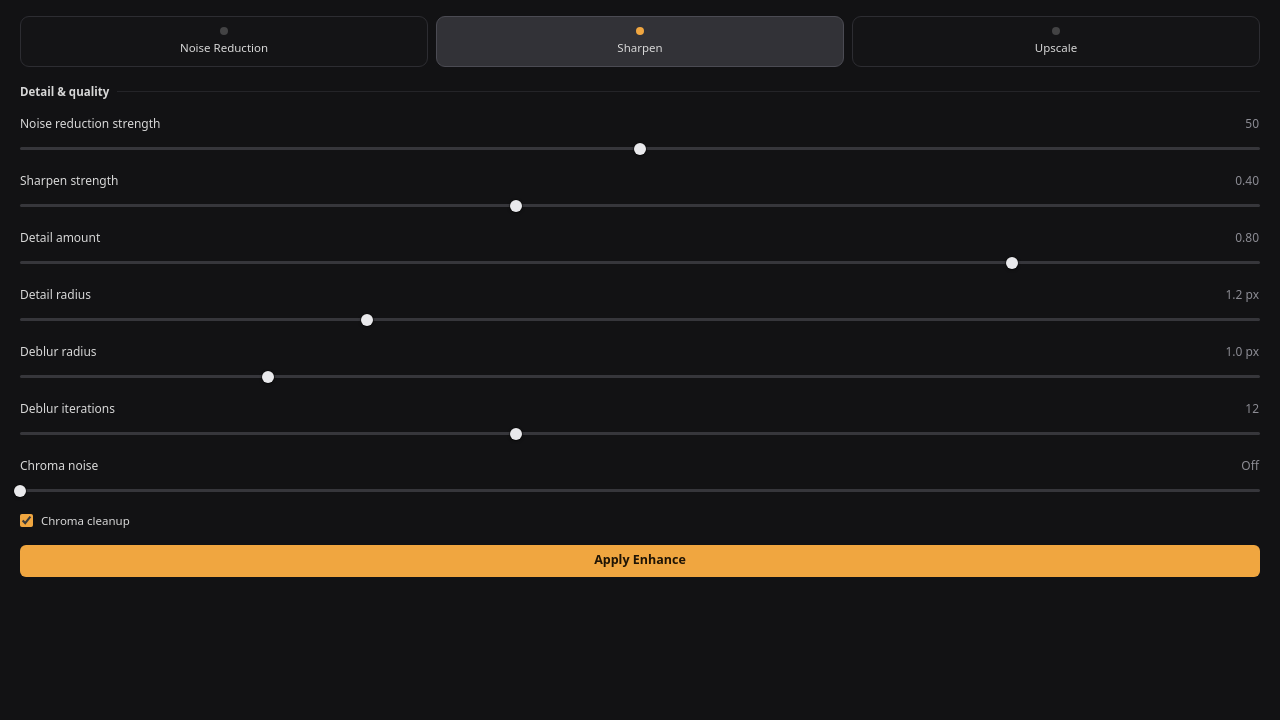
EnhanceModuleComponent › shows the scale selector only when Upscale is on
Expected: the text "4×" is not shown
Step 1. Click the button "Upscale" → (1056, 42), box [852,16,1260,67]
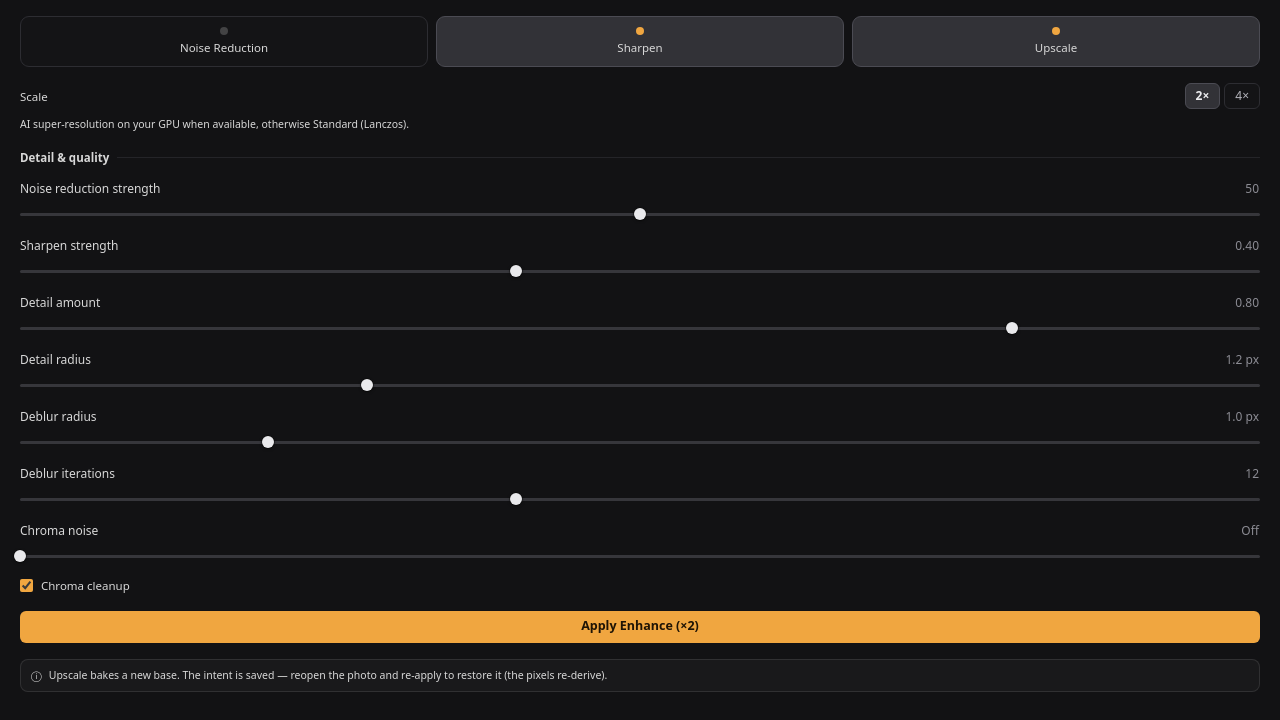
Expected: the button "4×" is shown, [1224,83,1260,109]
